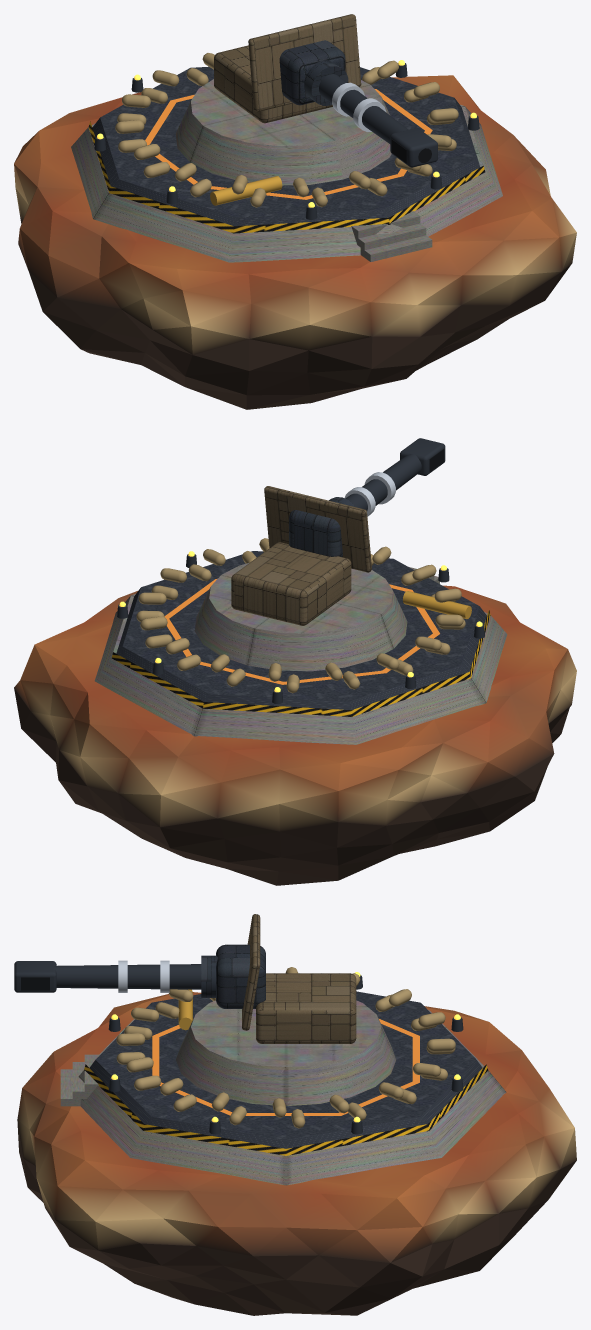
The model's file is howitzer-L1.glb.
3 renders of one model, top to bottom at view 1: azimuth 30°, elevation 25°; view 2: azimuth 150°, elevation 25°; view 3: azimuth 270°, elevation 25°, orthographic. The views are drawn at different scales.
Parts seen in each view (by area): view 1: object 1, object 4, object 60, object 2, anim:yaw, anim:rc, object 3, anim:pitch, object 5, object 22, object 23, object 24 (+1 smaller); view 2: object 1, object 4, object 2, object 60, anim:yaw, anim:rc, object 3, anim:pitch, object 5; view 3: object 1, object 4, object 60, object 2, anim:yaw, anim:rc, object 3, anim:pitch, object 5, object 22.
Boxes of the visible parts, box(x1,y1,x2,y2) form: object 1: box(14, 75, 576, 409); object 4: box(92, 66, 479, 226); object 60: box(175, 79, 391, 185); object 2: box(71, 104, 502, 262); anim:yaw: box(214, 14, 361, 123); anim:rc: box(304, 60, 437, 167); object 3: box(88, 121, 485, 233); anim:pitch: box(279, 40, 345, 105); object 5: box(145, 89, 432, 199); object 22: box(360, 235, 432, 261); object 23: box(354, 223, 426, 250); object 24: box(351, 211, 420, 238); object 1: box(14, 585, 576, 885); object 4: box(116, 551, 486, 709); object 2: box(94, 594, 507, 744); object 60: box(194, 563, 407, 671); anim:yaw: box(231, 486, 371, 625); anim:rc: box(329, 438, 445, 516); object 3: box(111, 610, 490, 716); anim:pitch: box(289, 510, 342, 556); object 5: box(164, 578, 439, 684); object 1: box(17, 992, 576, 1315); object 4: box(89, 991, 482, 1148); object 60: box(176, 1000, 396, 1106); object 2: box(78, 1010, 506, 1185); anim:yaw: box(242, 914, 356, 1043); anim:rc: box(14, 955, 217, 997); object 3: box(84, 1064, 488, 1155); anim:pitch: box(216, 944, 265, 1008); object 5: box(152, 1019, 419, 1115); object 22: box(60, 1069, 80, 1106).
Size of the model in its own units: 5.61 by 3.51 by 5.62.
13 materials, 5 textured.
